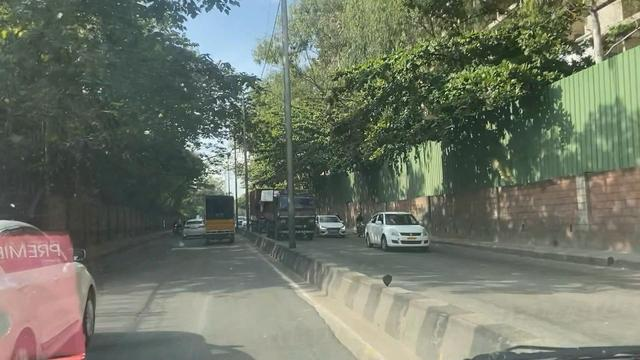HMV: (244, 182, 319, 247), (199, 186, 240, 252)
